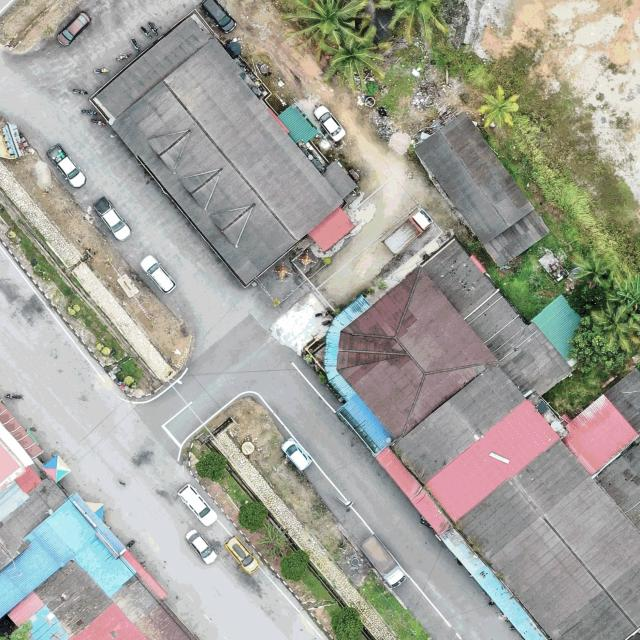Tree: (281, 0, 369, 60), (319, 19, 391, 88), (565, 317, 630, 374), (372, 0, 447, 41), (588, 300, 640, 354), (478, 84, 523, 130), (568, 246, 611, 292), (612, 271, 640, 320), (328, 604, 364, 640), (236, 498, 269, 532), (194, 450, 228, 482), (278, 550, 310, 582), (631, 302, 640, 336)
